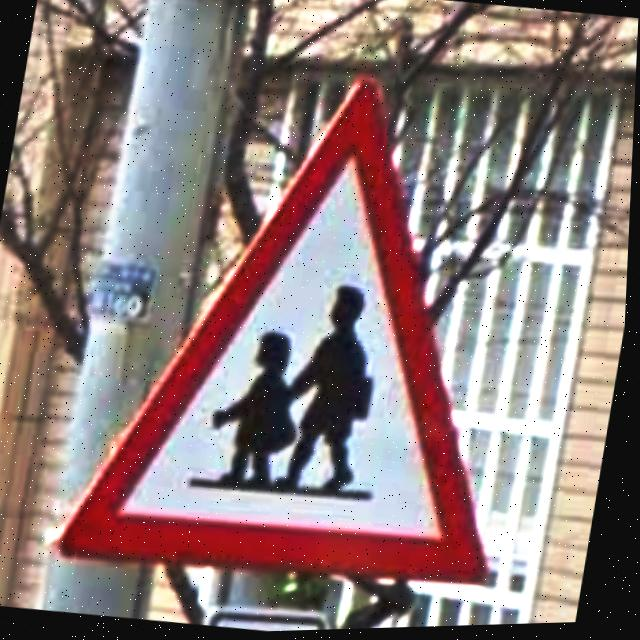childrencross: (65, 80, 490, 587)
